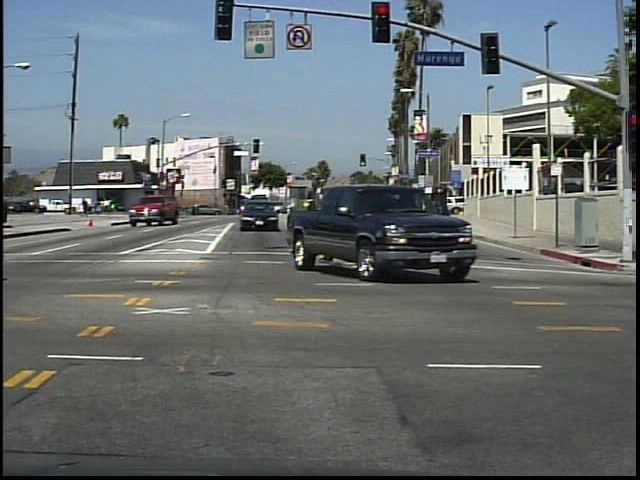person: (81, 194, 94, 220)
